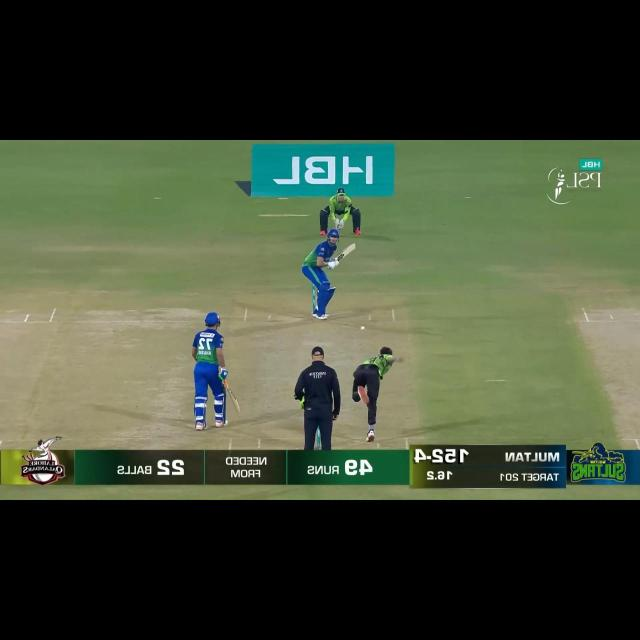bat: (225, 385, 242, 417), (337, 242, 360, 264)
toe: (235, 406, 241, 415), (350, 243, 356, 250)
